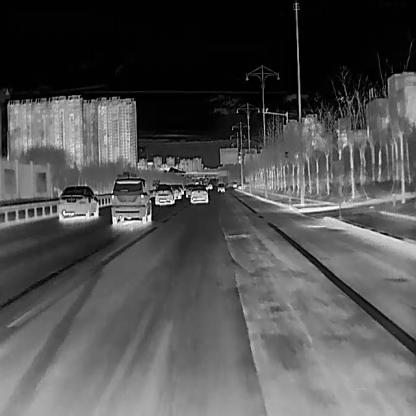car: (109, 174, 150, 224), (57, 184, 98, 218), (154, 183, 173, 204), (189, 184, 207, 202), (216, 182, 224, 192)
